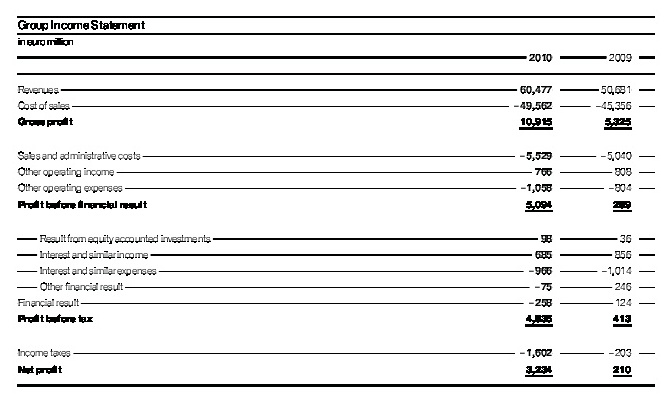table: (0, 0, 668, 402)
